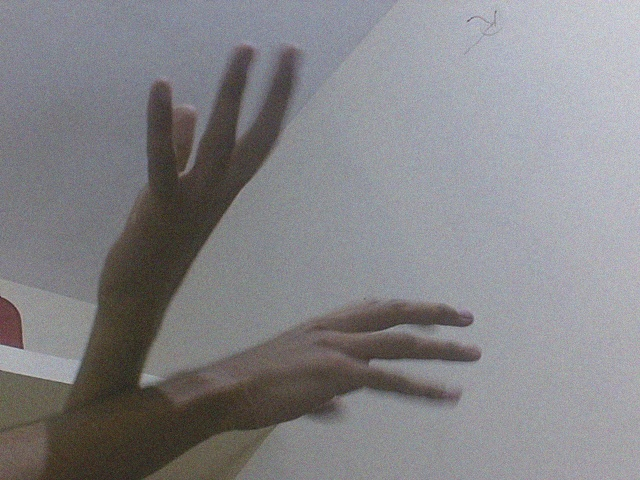hand: (93, 39, 307, 333), (166, 294, 486, 437)
